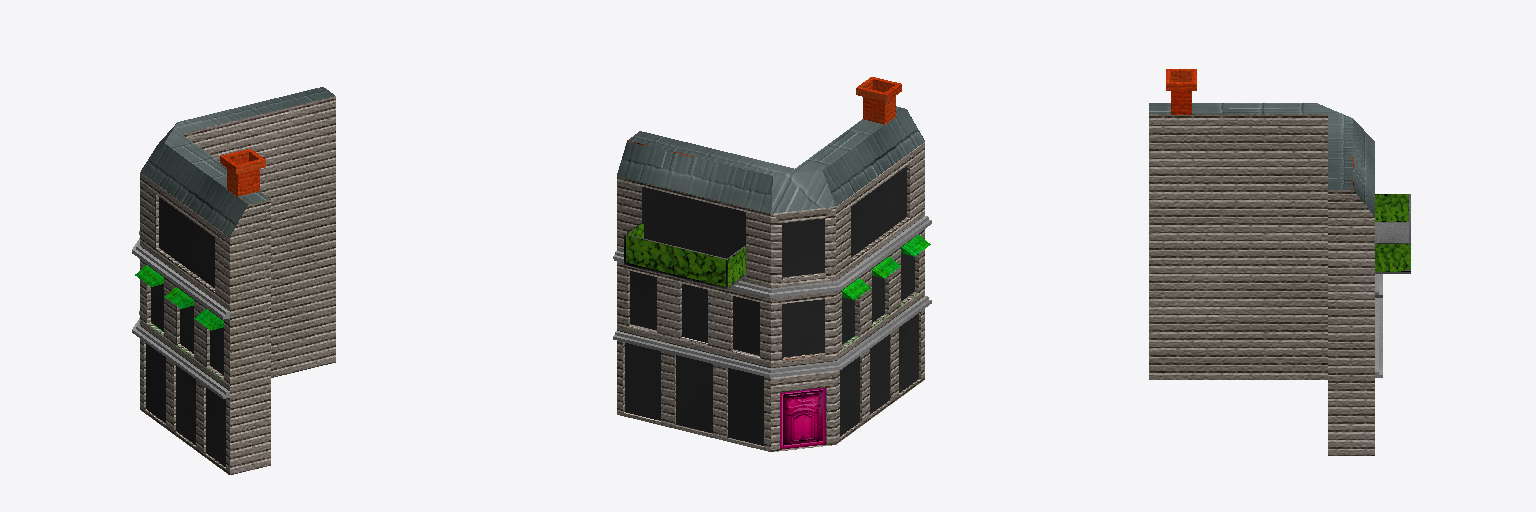
3 views of the same model, side by side, from view 1: azimuth 30°, elevation 25°; view 2: azimuth 150°, elevation 25°; view 3: azimuth 270°, elevation 25° (orthographic).
Parts seen in each view (by area): view 1: Cube2; view 2: Cube2; view 3: Cube2.
Boxes of the visible parts, box(x1,y1,x2,y2) form: Cube2: box(132, 87, 335, 474); Cube2: box(613, 77, 931, 451); Cube2: box(1149, 69, 1410, 455).
Size of the model in its own units: 10.17 by 13.95 by 11.09.
1 materials, 1 textured.